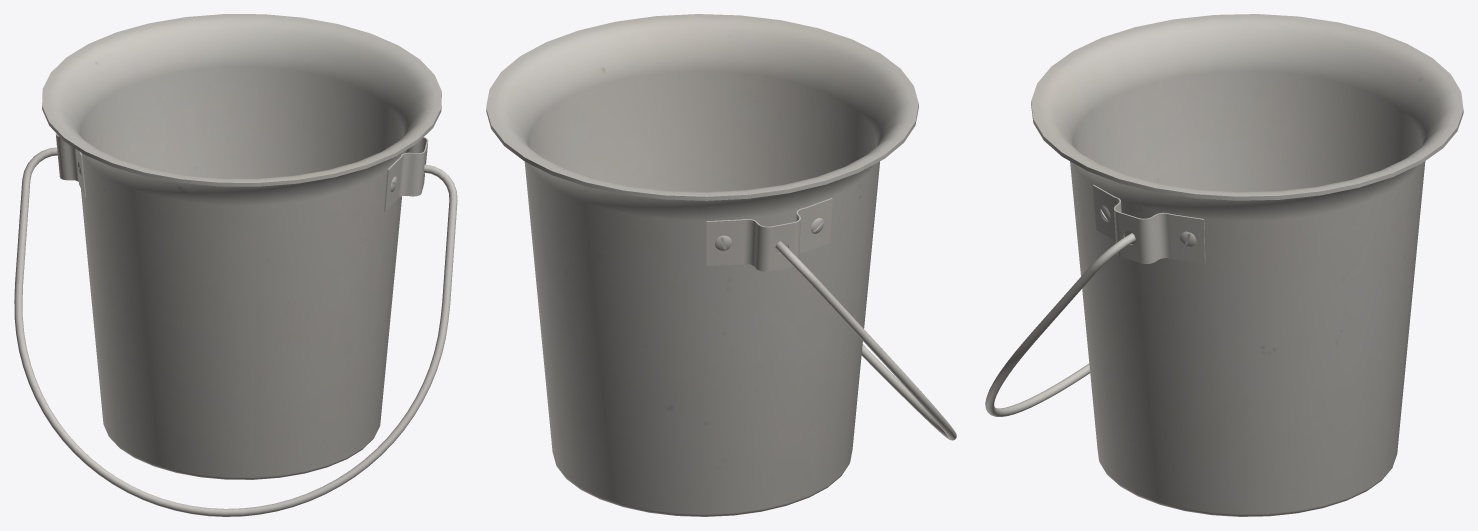
File: bucket.fbx
The picture shows the model from 3 angles, left to right: view 1: azimuth 30°, elevation 25°; view 2: azimuth 150°, elevation 25°; view 3: azimuth 270°, elevation 25°; orthographic projection. The views are drawn at different scales.
Visible parts, largest first — view 1: KB3D_ECE_BldgIntMorgue_A_BucketC; view 2: KB3D_ECE_BldgIntMorgue_A_BucketC; view 3: KB3D_ECE_BldgIntMorgue_A_BucketC.
Part boxes in pixels (x1,y1,x2,y2): KB3D_ECE_BldgIntMorgue_A_BucketC: (14, 14, 457, 516); KB3D_ECE_BldgIntMorgue_A_BucketC: (486, 14, 956, 516); KB3D_ECE_BldgIntMorgue_A_BucketC: (985, 14, 1463, 516).
Size of the model in its own units: 32.7 by 26.14 by 32.37.
